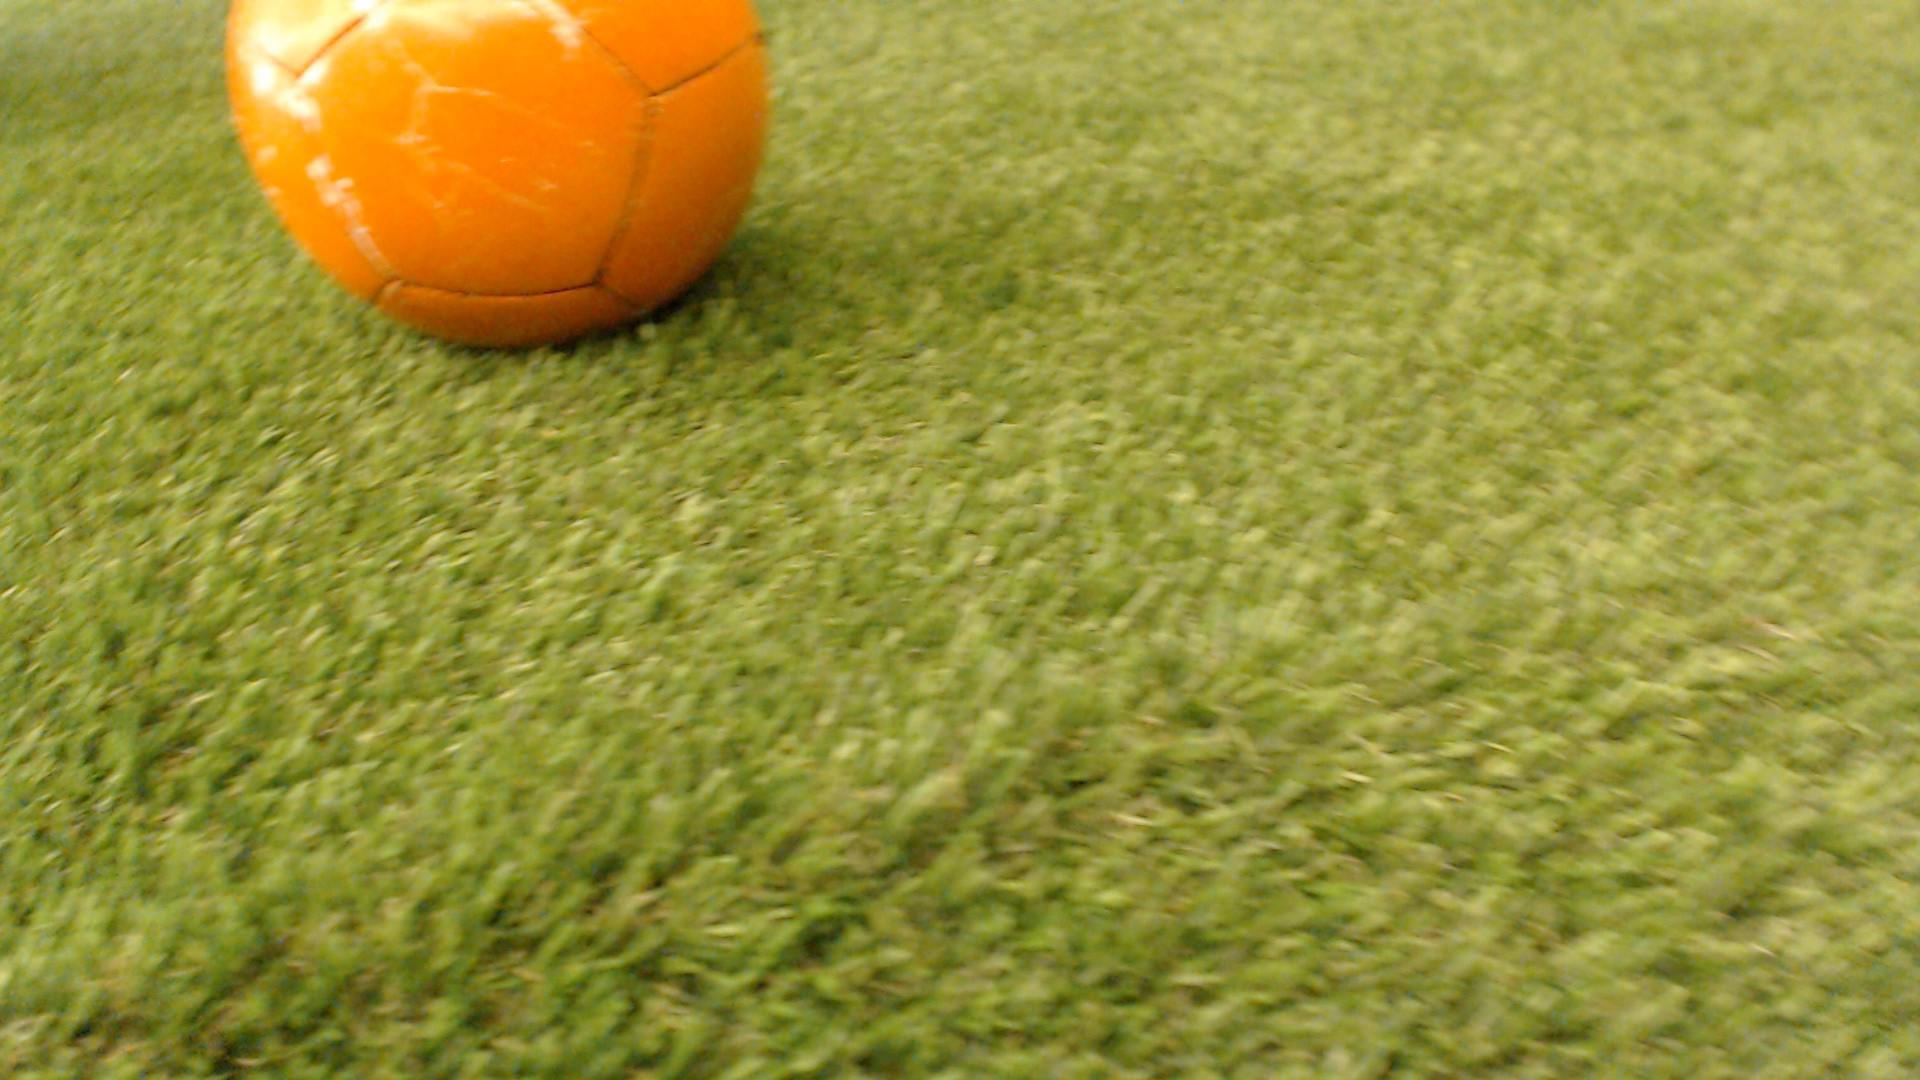bola: (200, 0, 795, 389)
